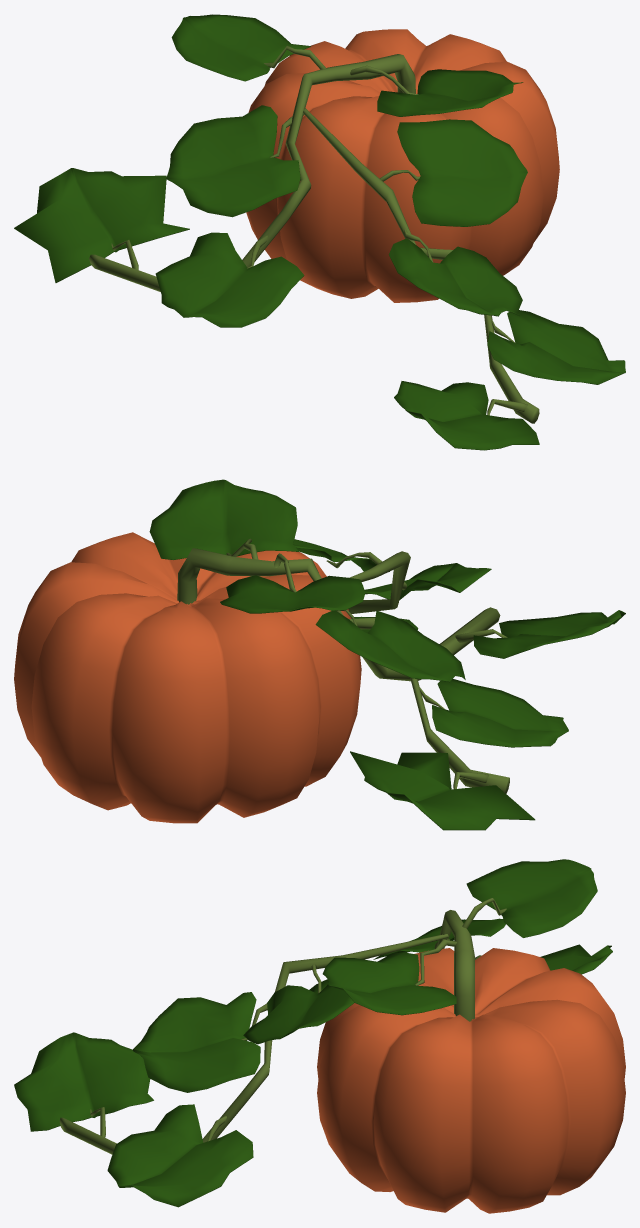
File: AboboraMadura.fbx
3 views of the same model, one above another, from view 1: azimuth 30°, elevation 25°; view 2: azimuth 150°, elevation 25°; view 3: azimuth 270°, elevation 25° (orthographic). The views are drawn at different scales.
Visible parts, largest first — view 1: AboboraMadura; view 2: AboboraMadura; view 3: AboboraMadura.
Part boxes in pixels (x1,y1,x2,y2): AboboraMadura: (14, 14, 625, 450); AboboraMadura: (14, 479, 625, 830); AboboraMadura: (14, 859, 625, 1213).
Bounding box in the file's own units: 43.11 × 22.7 × 49.74.
